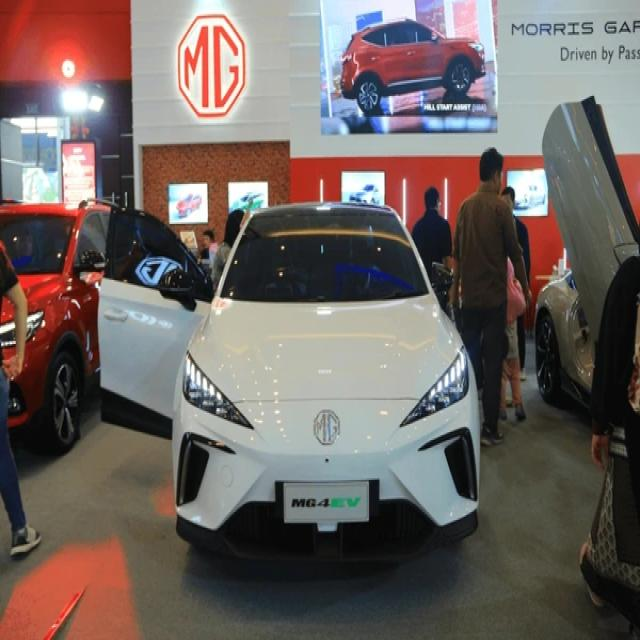mg: (312, 405, 344, 447)
